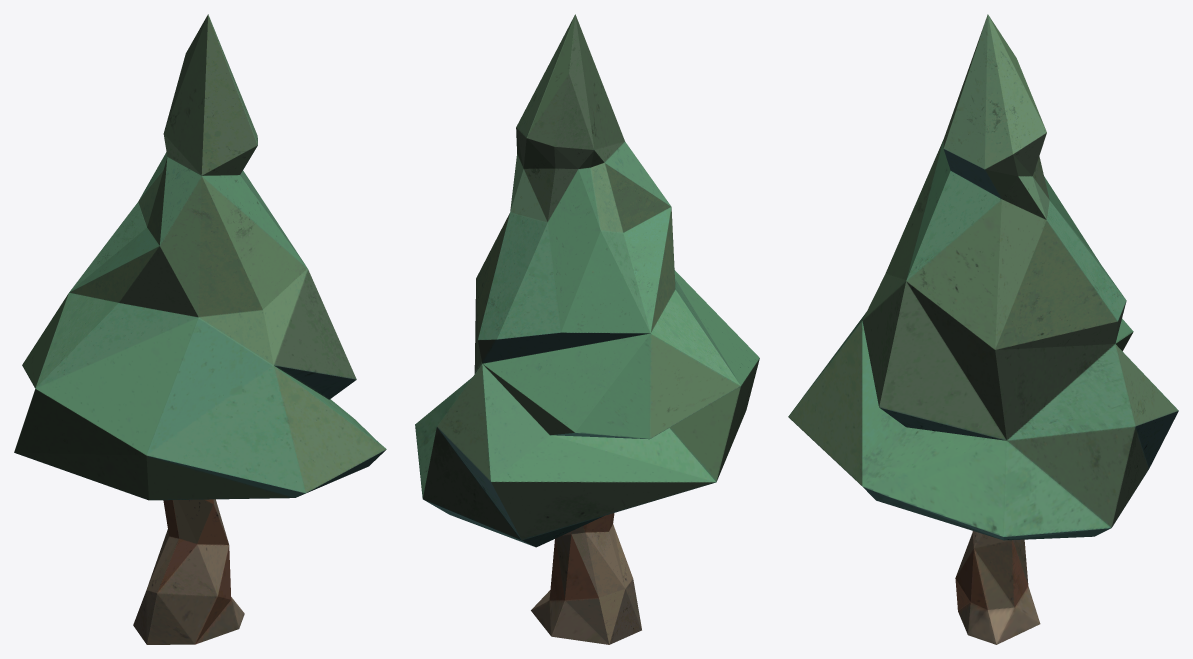
The model's file is tree1.fbx.
3 renders of one model, left to right at view 1: azimuth 30°, elevation 25°; view 2: azimuth 150°, elevation 25°; view 3: azimuth 270°, elevation 25°, orthographic.
Parts seen in each view (by area): view 1: node_id208; view 2: node_id208; view 3: node_id208.
Boxes of the visible parts, bbox=[...] form: node_id208: bbox=[14, 14, 386, 644]; node_id208: bbox=[415, 14, 759, 644]; node_id208: bbox=[788, 14, 1178, 644].
Size of the model in its own units: 0.8654 by 1.56 by 0.9025.
1 material, 1 textured.
